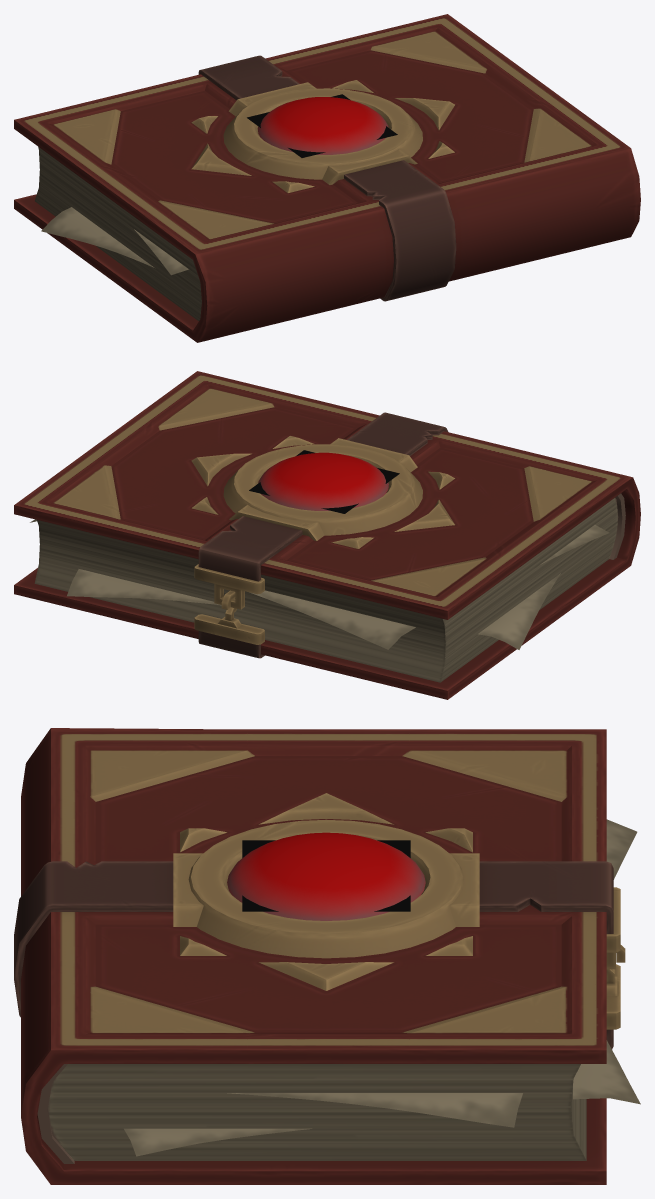
File: SBook.fbx
3 renders of one model, top to bottom at view 1: azimuth 30°, elevation 25°; view 2: azimuth 150°, elevation 25°; view 3: azimuth 270°, elevation 25°, orthographic. The views are drawn at different scales.
Parts seen in each view (by area): view 1: SBook, Emblem; view 2: SBook, Emblem; view 3: SBook, Emblem.
Part boxes in pixels (x1,y1,x2,y2): SBook: (14,14,640,342); Emblem: (247,94,397,157); SBook: (14,371,640,699); Emblem: (249,450,399,513); SBook: (14,728,640,1184); Emblem: (242,840,410,911).
Bounding box in the file's own units: 791 × 194 × 602.
